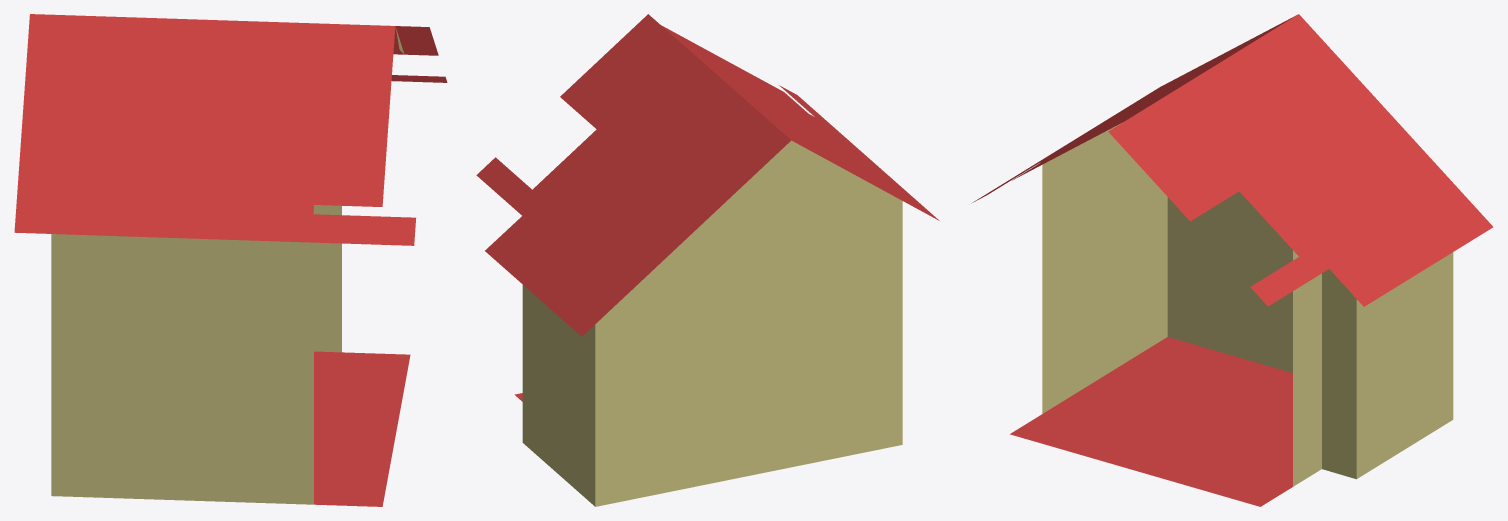
3 renders of one model, left to right at view 1: azimuth 30°, elevation 25°; view 2: azimuth 150°, elevation 25°; view 3: azimuth 270°, elevation 25°, orthographic. The views are drawn at different scales.
Bounding box in the file's own units: 16.69 × 18.11 × 13.19.
